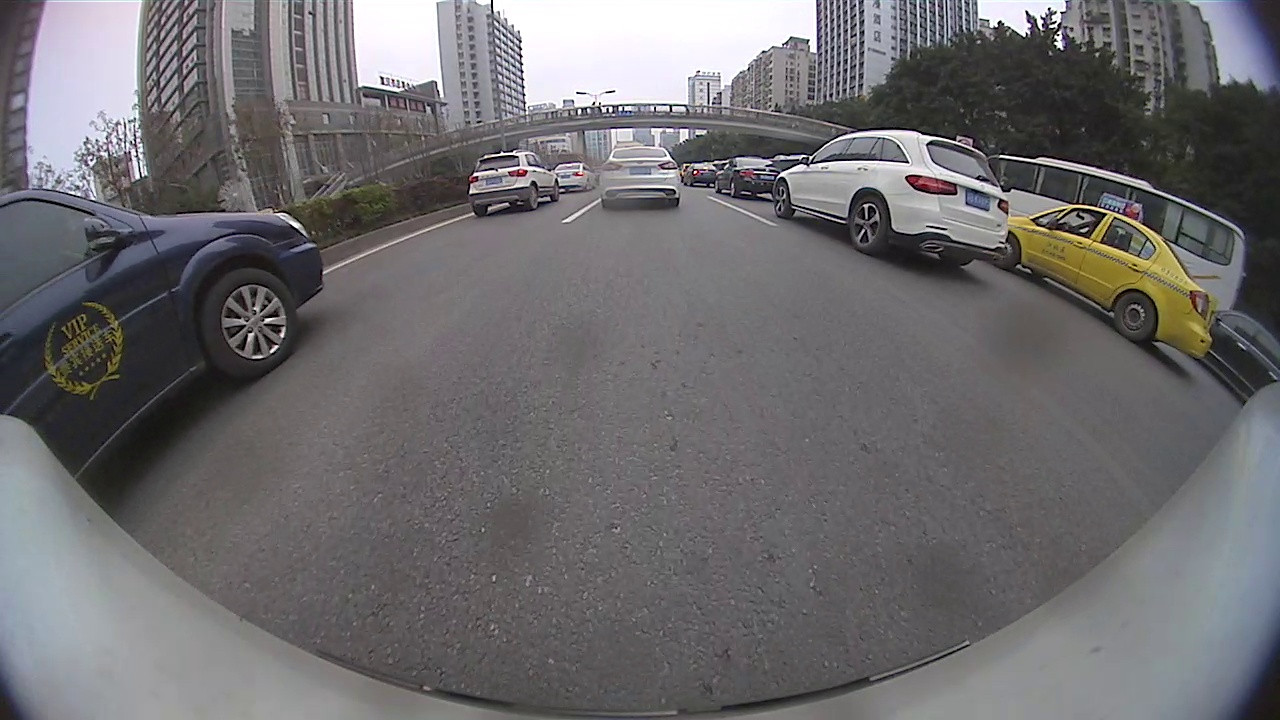bus: (986, 150, 1248, 319)
car: (0, 188, 325, 485), (1005, 200, 1218, 361), (773, 126, 1012, 269), (1206, 308, 1279, 403), (469, 150, 561, 221), (601, 148, 681, 211), (717, 156, 781, 203)
front: (198, 270, 302, 380), (996, 236, 1022, 269), (772, 182, 793, 220)
rear: (848, 198, 889, 253), (1114, 292, 1159, 340), (527, 181, 539, 208)
